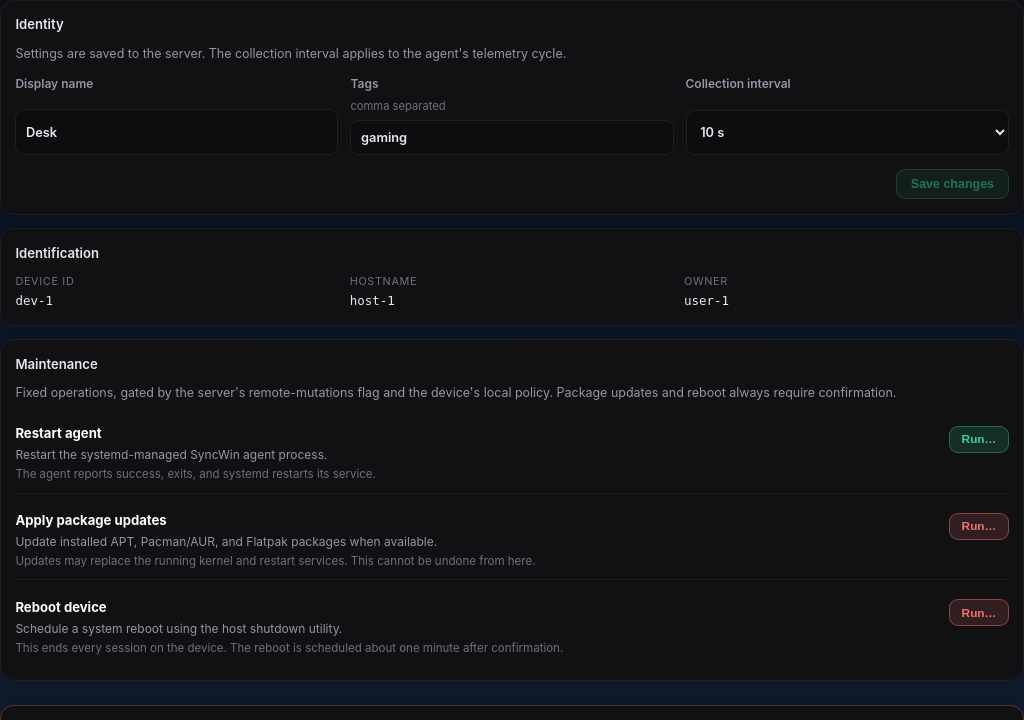
Test: DeviceSettings screen › loads persisted settings and saves identity, tags, and collection interval
The image size is (1024, 720).
Check: the heading "Maintenance" is shown, box [15,356,98,372]
Check: the number of buttons "Run…" is 3, box [949,426,1009,453]; [949,513,1009,540]; [949,599,1009,626]
Step 1. Replace the text in the field labelled "Display name" with "Office PC" → [177, 132], box [15,109,338,155]
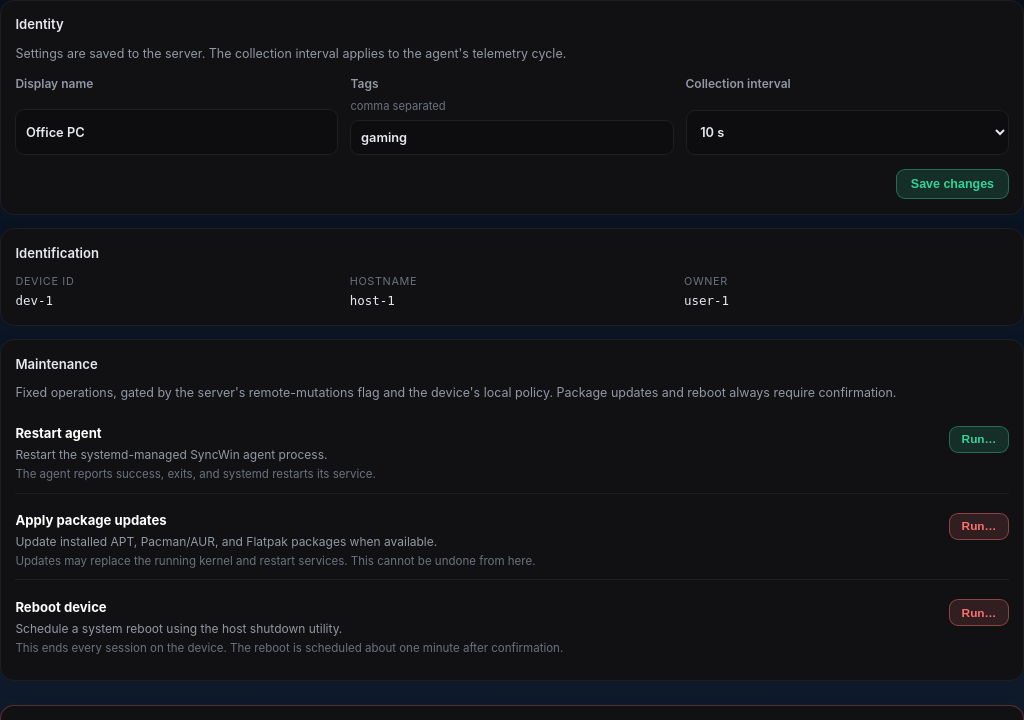
Step 2. Replace the text in the field labelled "Tags comma separated" with "work, gaming" → [512, 138], box [350,120,674,155]
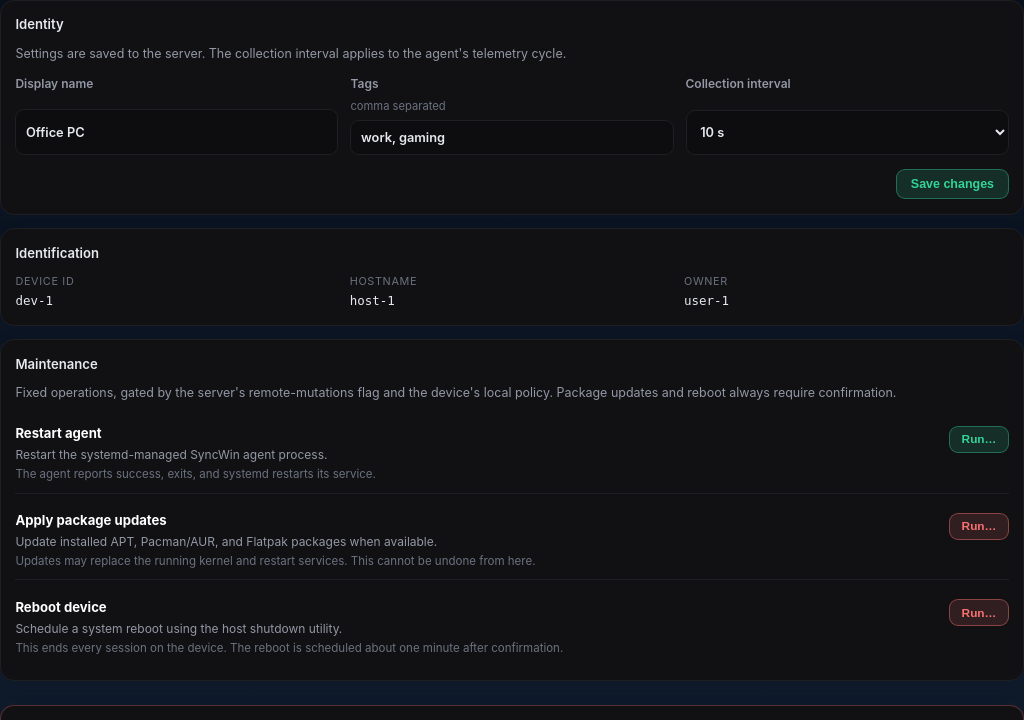
Step 3. Select "30 s" in the dropdown labelled "Collection interval" → [847, 133], box [686,110,1009,155]
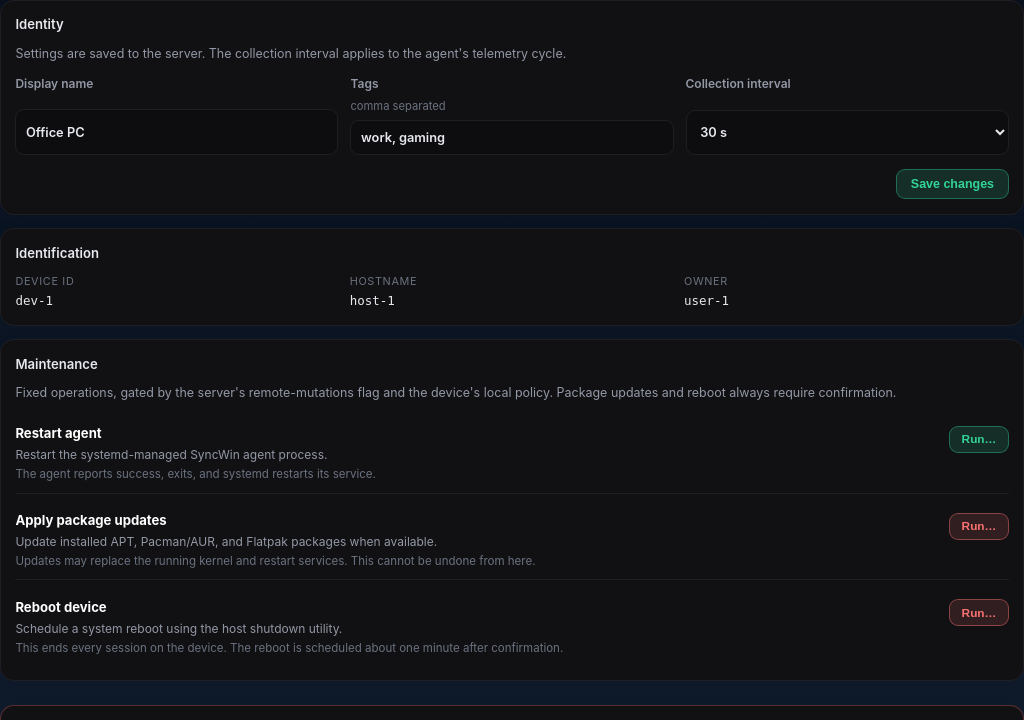
Step 4. Click the button "Save changes" → [952, 184], box [896,169,1009,199]
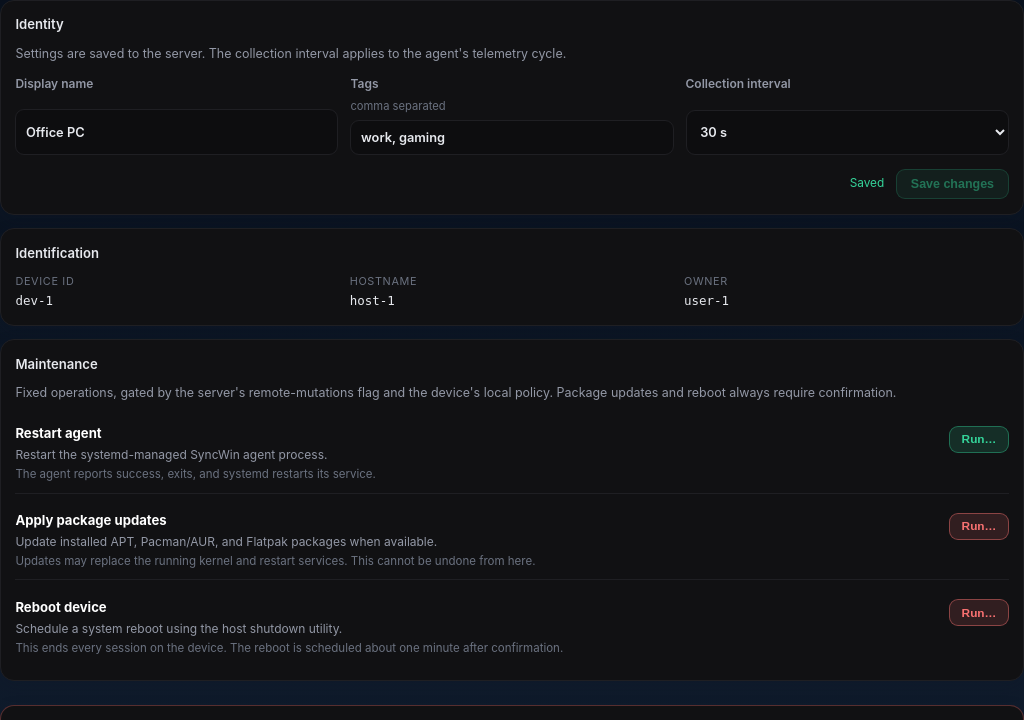
Check: the message reads "Saved", box [850,176,884,190]
